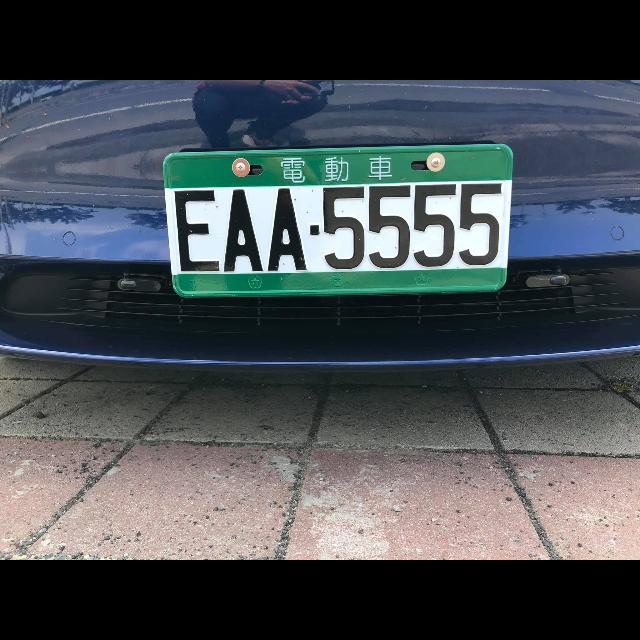plate: (163, 142, 514, 298)
